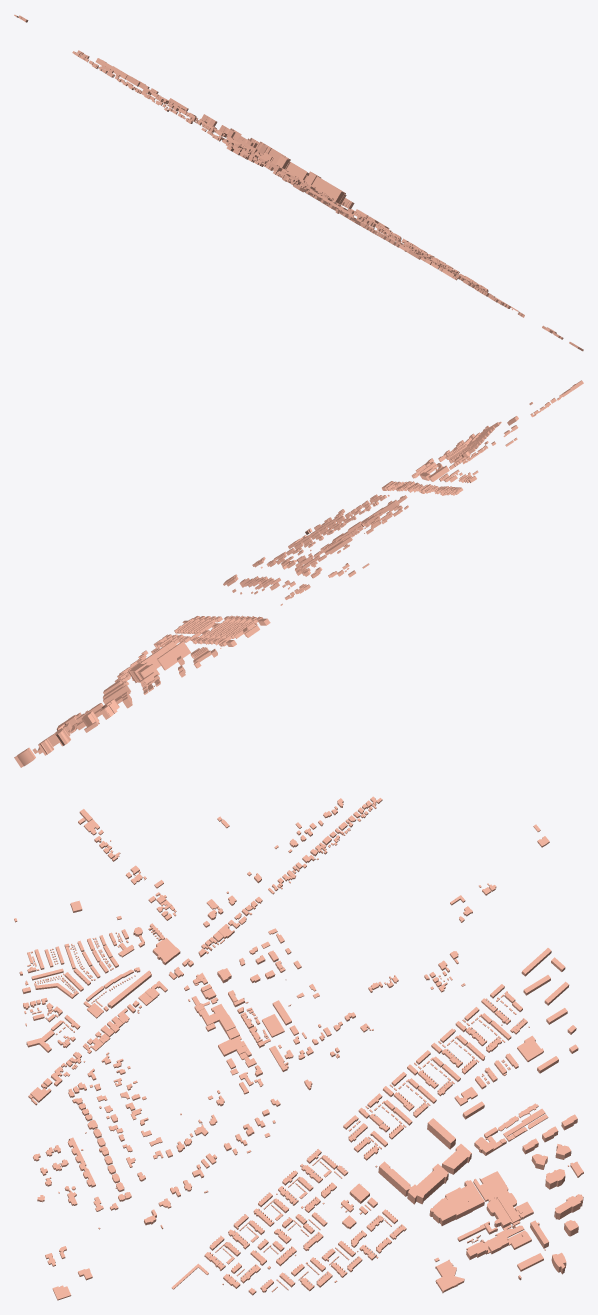
3 views of the same model, one above another, from view 1: azimuth 30°, elevation 25°; view 2: azimuth 150°, elevation 25°; view 3: azimuth 270°, elevation 25° (orthographic). The views are drawn at different scales.
Size of the model in its own units: 1014 by 758 by 1249.
